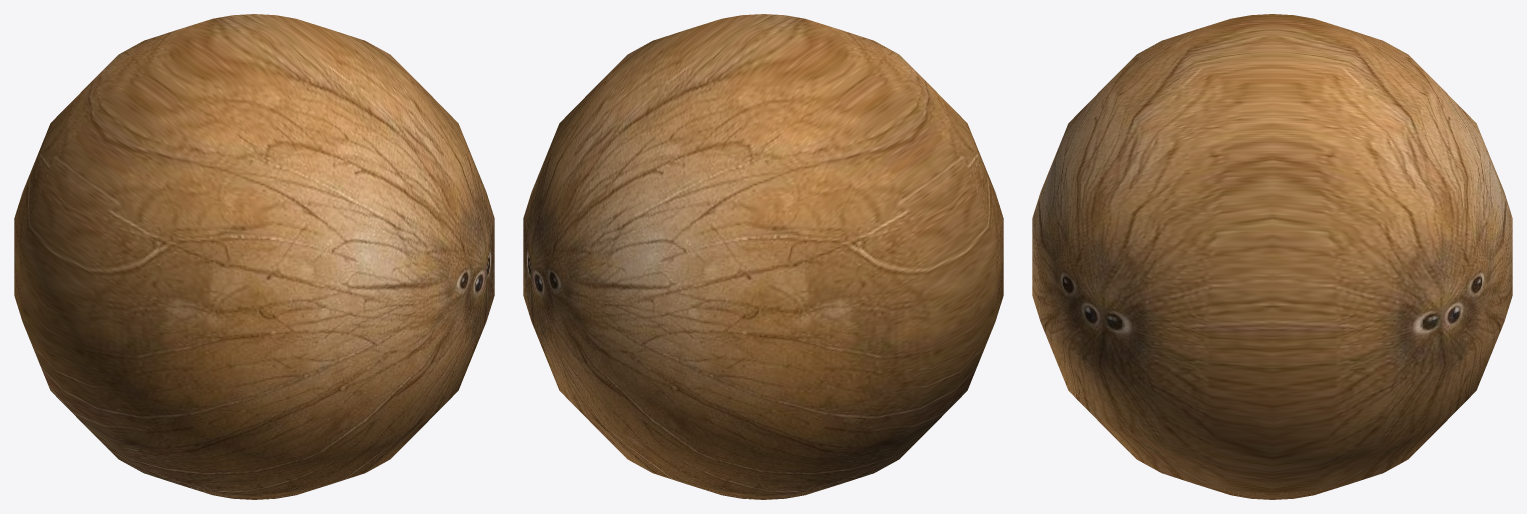
File: turtle-prop-coconut.glb
The picture shows the model from 3 angles, left to right: view 1: azimuth 30°, elevation 25°; view 2: azimuth 150°, elevation 25°; view 3: azimuth 270°, elevation 25°; orthographic projection.
Parts seen in each view (by area): view 1: coconut; view 2: coconut; view 3: coconut.
Part boxes in pixels (x1,y1,x2,y2): coconut: (14, 14, 494, 499); coconut: (523, 14, 1003, 499); coconut: (1032, 14, 1512, 499).
Bounding box in the file's own units: 0.0492 × 0.05 × 0.0492.
1 material, 1 textured.
